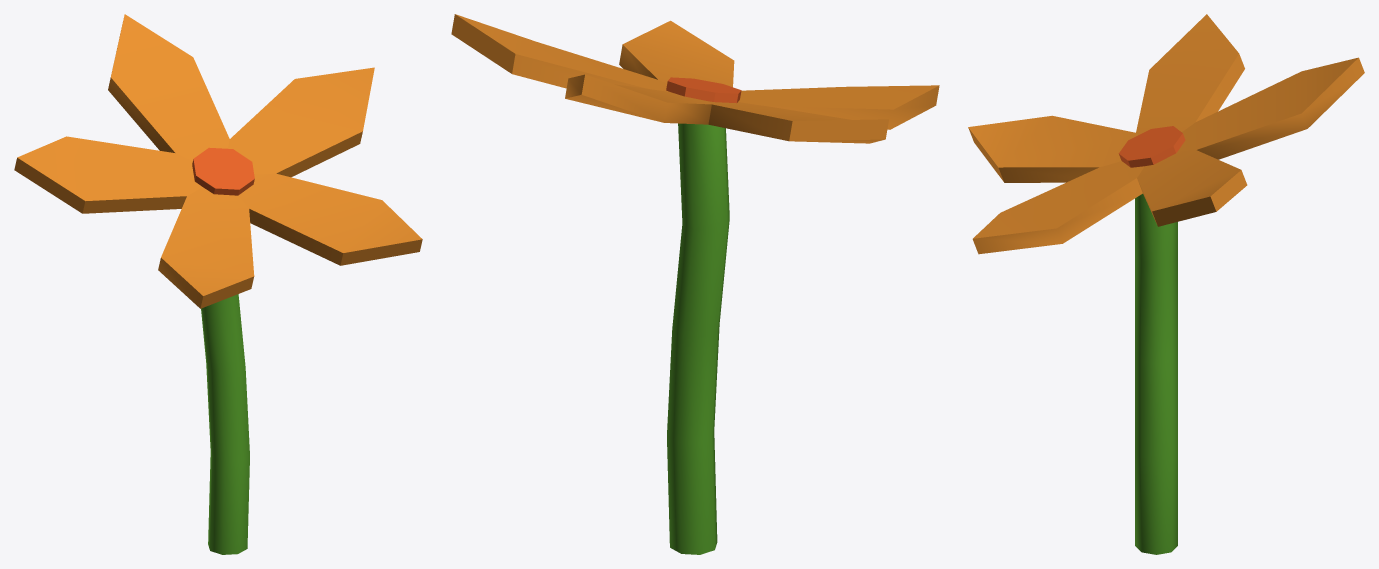
File: Flower_Orange_1.fbx
3 views of the same model, side by side, from view 1: azimuth 30°, elevation 25°; view 2: azimuth 150°, elevation 25°; view 3: azimuth 270°, elevation 25° (orthographic). The views are drawn at different scales.
Visible parts, largest first — view 1: Cube.099, Cylinder.627, Cylinder.628; view 2: Cube.099, Cylinder.627, Cylinder.628; view 3: Cube.099, Cylinder.627, Cylinder.628.
Boxes of the visible parts, left/top/right/bottom form: Cube.099: left=14, top=14, right=422, bottom=308; Cylinder.627: left=201, top=294, right=249, bottom=554; Cylinder.628: left=192, top=147, right=254, bottom=195; Cube.099: left=451, top=14, right=939, bottom=143; Cylinder.627: left=667, top=123, right=729, bottom=554; Cylinder.628: left=666, top=77, right=741, bottom=103; Cube.099: left=968, top=14, right=1364, bottom=254; Cylinder.627: left=1135, top=193, right=1177, bottom=554; Cylinder.628: left=1118, top=126, right=1185, bottom=167.
Bounding box in the file's own units: 71.56 × 88.17 × 65.36.
